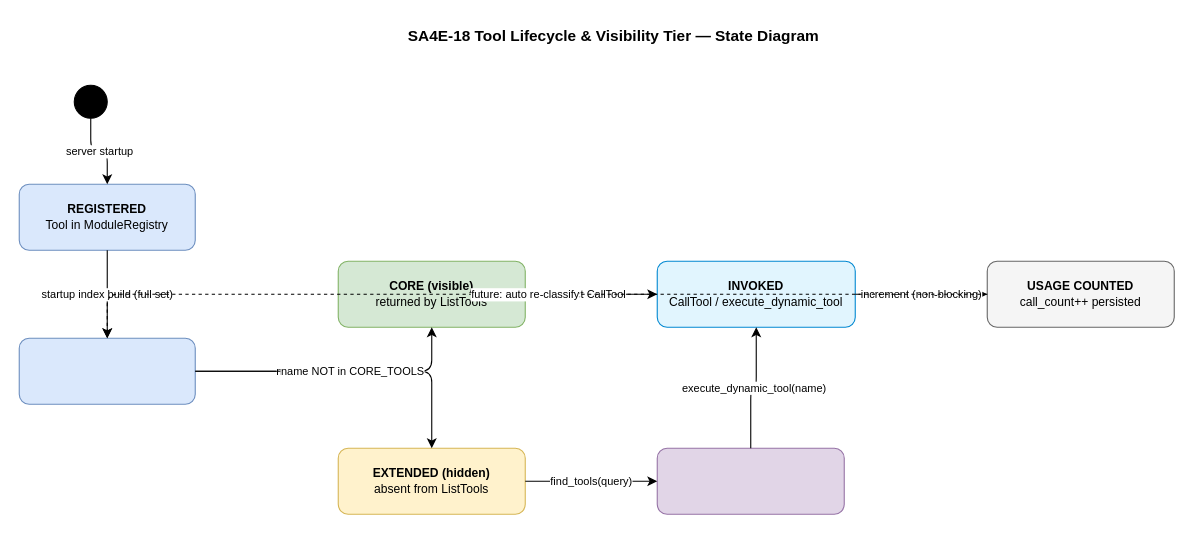
The diagram is 1194 pixels wide and 534 high, and some of its shapes have lost their labels. Here are the shapes that lost their labels. From the top down, the centre of each, then its label:
the point at 106,370: INGESTED in mcp_tools index (full set)
the point at 750,480: DISCOVERED via find_tools(query)
